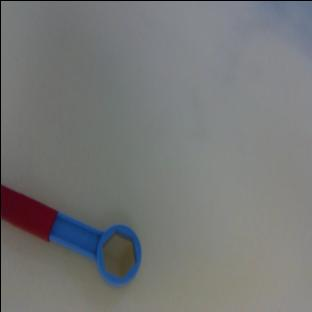part_3_good: (0, 185, 149, 291)
